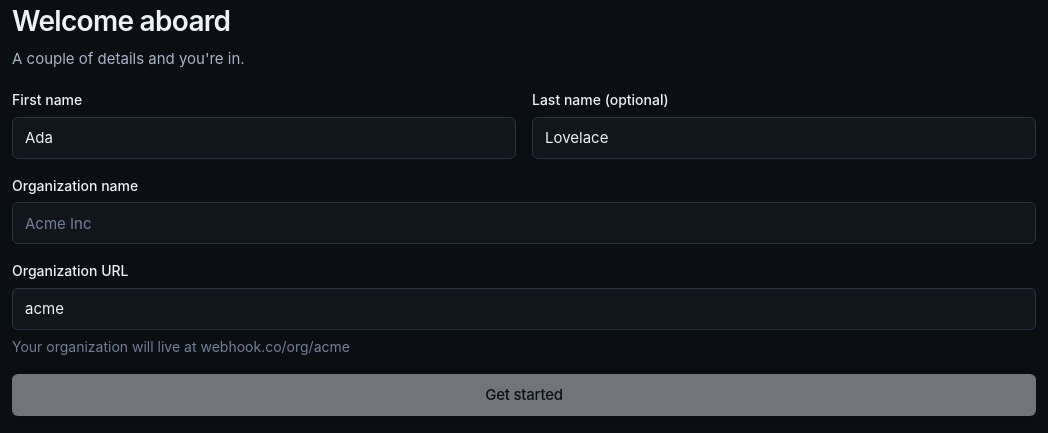
Scenario: OnboardingForm › re-enables submit once the org name is filled in
The image size is (1048, 433).
Expected: the button "Get started" is disabled, [12,374,1036,416]
Step 1. Type "Acme" into the field labelled "Organization name" → (524, 223), box [12,202,1036,244]
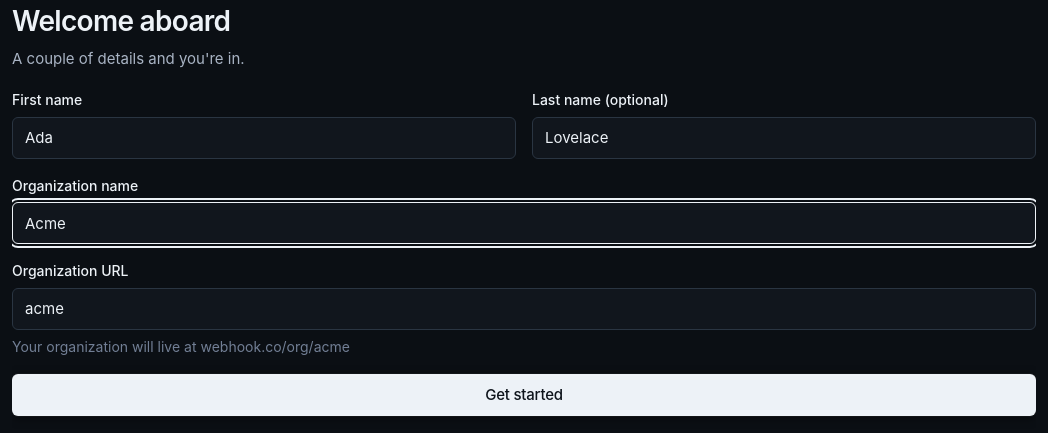
Expected: the button "Get started" is enabled, [12,374,1036,416]
